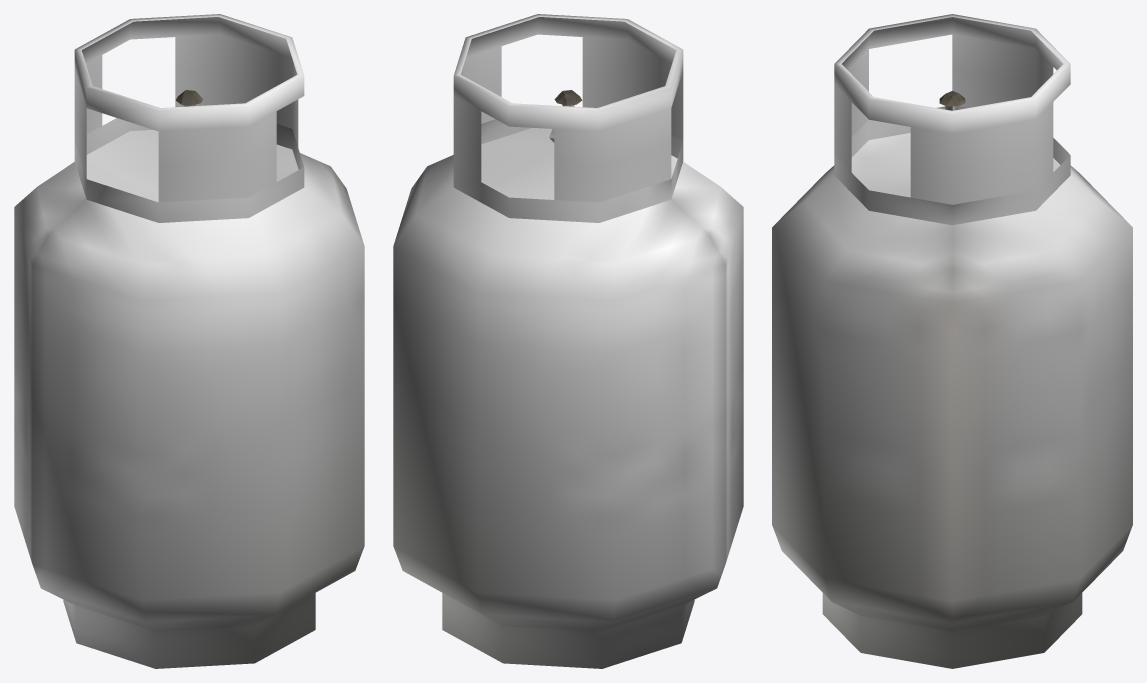
The model's file is psx_industrial_pack_propane_tank_small.glb.
The picture shows the model from 3 angles, left to right: view 1: azimuth 30°, elevation 25°; view 2: azimuth 150°, elevation 25°; view 3: azimuth 270°, elevation 25°; orthographic projection.
Parts seen in each view (by area): view 1: PropaneTankSmall; view 2: PropaneTankSmall; view 3: PropaneTankSmall.
Boxes of the visible parts, <box> form: PropaneTankSmall: <box>14,14,364,668</box>; PropaneTankSmall: <box>393,14,743,668</box>; PropaneTankSmall: <box>772,14,1132,668</box>.
Size of the model in its own units: 0.44 by 0.74 by 0.44.
1 material, 1 textured.
